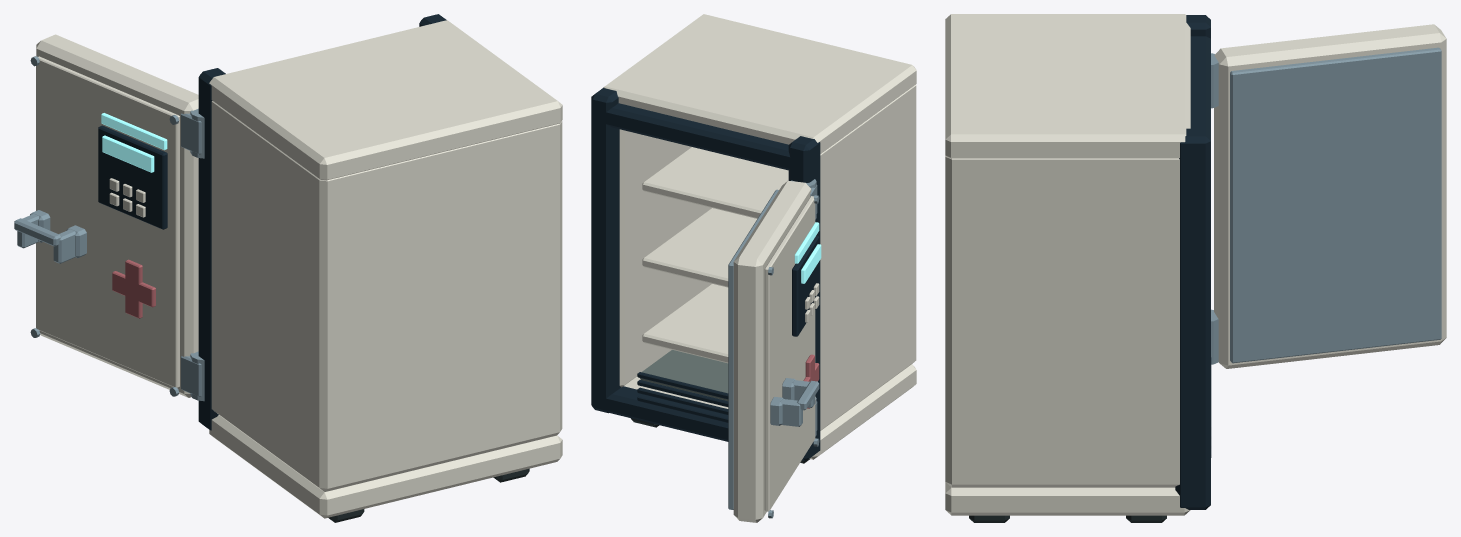
The model's file is cold_chain_medical_cabinet_opened.glb.
3 renders of one model, left to right at view 1: azimuth 30°, elevation 25°; view 2: azimuth 150°, elevation 25°; view 3: azimuth 270°, elevation 25°, orthographic. The views are drawn at different scales.
Visible parts, largest first — view 1: body_back_wall, body_left_wall, body_roof, moving_front_inset, body_floor, moving_door, front_frame, moving_control_panel, body_right_wall, moving_hinge_leaf (×2), moving_lcd, moving_med_cross_h (+3 smaller); view 2: body_left_wall, body_roof, front_frame (×4), interior_shelf (×3), body_right_wall, moving_door, moving_front_inset, body_floor, interior_lining, front_cooling_vent (×4), moving_inner_door_plate, moving_control_panel (+2 smaller); view 3: body_right_wall, moving_inner_door_plate, body_roof, front_frame (×2), moving_door, body_floor, body_back_wall.
Boxes of the visible parts, x1,y1,x2,y2 form: body_back_wall: [310, 123, 559, 491]; body_left_wall: [211, 101, 343, 491]; body_roof: [209, 20, 562, 180]; moving_front_inset: [36, 56, 179, 387]; body_floor: [209, 415, 562, 518]; moving_door: [36, 34, 198, 397]; front_frame: [198, 68, 225, 430]; moving_control_panel: [98, 125, 167, 229]; body_right_wall: [541, 121, 562, 439]; moving_hinge_leaf (×2): [181, 113, 201, 396]; moving_lcd: [102, 135, 154, 172]; moving_med_cross_h: [112, 271, 155, 307]; body_left_wall: [820, 85, 916, 430]; body_roof: [603, 14, 916, 153]; front_frame (×4): [591, 87, 820, 461]; interior_shelf (×3): [642, 147, 788, 363]; body_right_wall: [619, 129, 711, 387]; moving_door: [733, 180, 811, 522]; moving_front_inset: [764, 196, 815, 511]; body_floor: [624, 364, 916, 459]; interior_lining: [640, 350, 728, 400]; front_cooling_vent (×4): [637, 372, 728, 422]; moving_inner_door_plate: [728, 189, 778, 509]; moving_control_panel: [792, 235, 819, 336]; body_right_wall: [945, 156, 1179, 487]; moving_inner_door_plate: [1230, 47, 1441, 363]; body_roof: [945, 14, 1190, 158]; front_frame (×2): [1175, 36, 1210, 509]; moving_door: [1214, 24, 1446, 368]; body_floor: [945, 482, 1190, 515]; body_back_wall: [952, 158, 971, 487].
Bounding box in the file's own units: 1.2 × 1.29 × 1.47.
